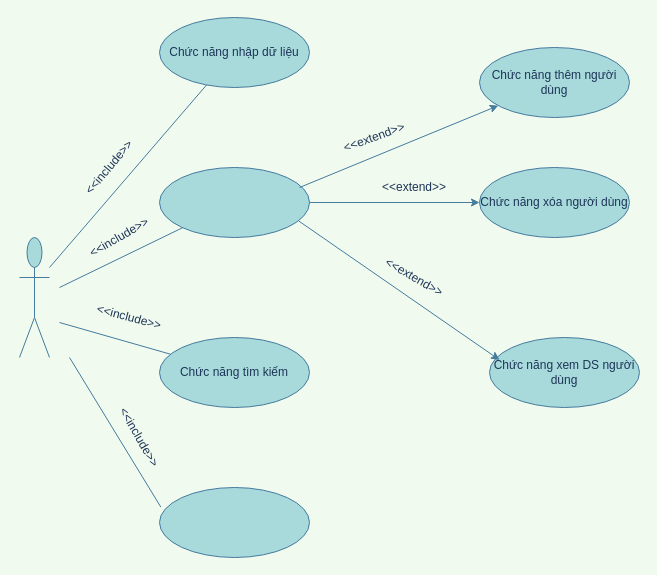
The diagram is 657 pixels wide and 575 high, and some of its shapes have lost their labels. Each missing label, with the box of its shape:
Admin: (18, 236, 50, 358)
Chúc năng quan lý người dùng: (158, 166, 310, 238)
Chức năng thống kê: (158, 486, 310, 558)
